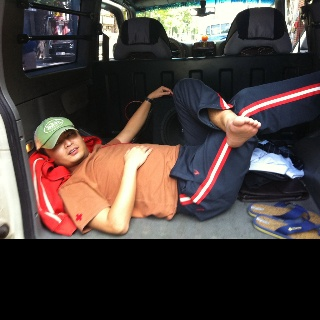without_mask: (44, 128, 86, 167)
